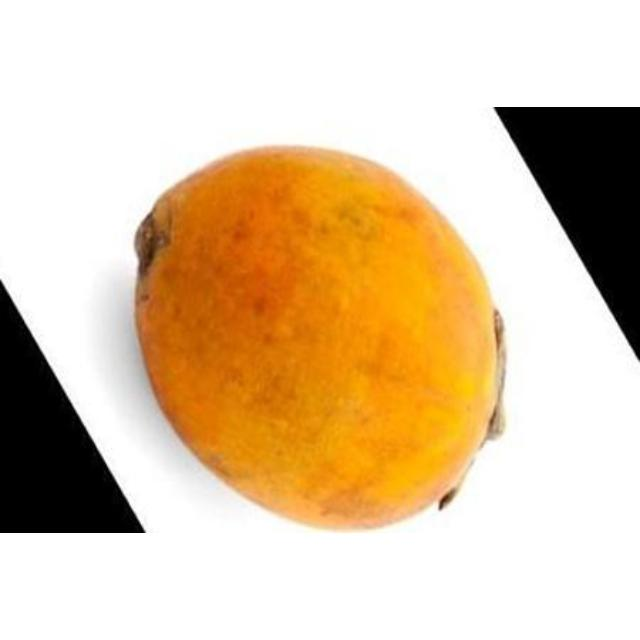good: (129, 147, 505, 532)
